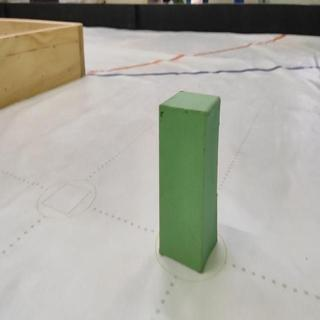greenbox: (156, 87, 223, 274)
